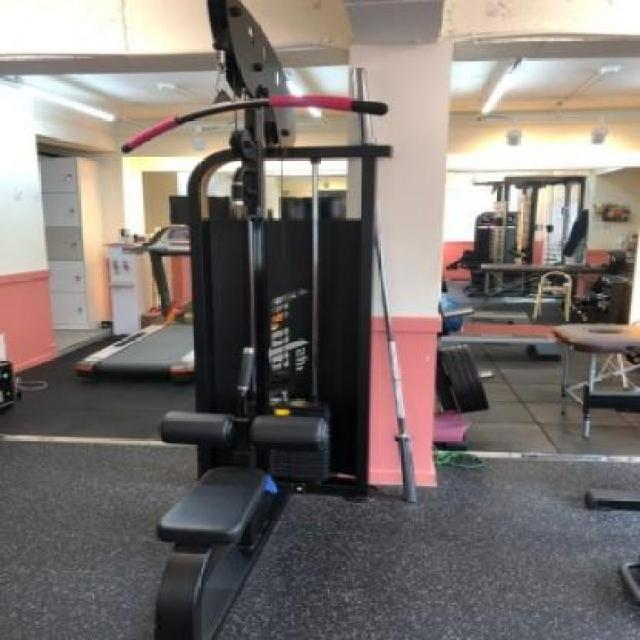Lat Pull Down: (50, 1, 429, 640)
